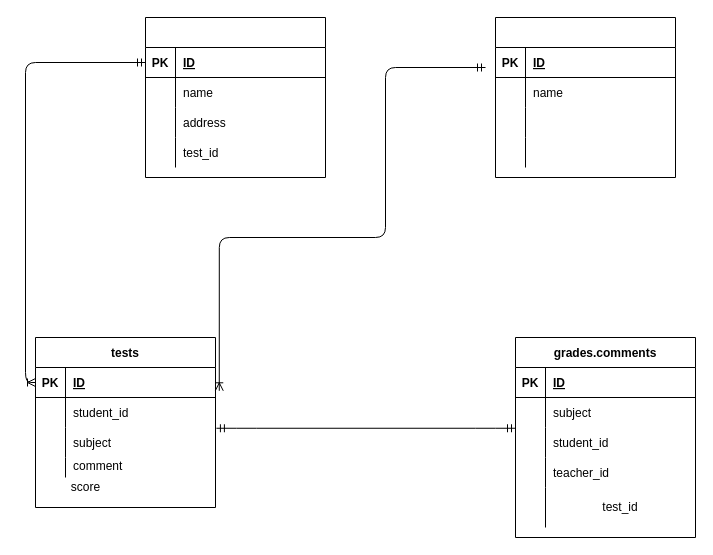
Image size: 713x555. Some labels were removed from this diagram. The box of each missing label's shape, as (x1, y1, x2, y2) in pixels:
studens: (144, 16, 326, 178)
teachers: (494, 16, 676, 178)
